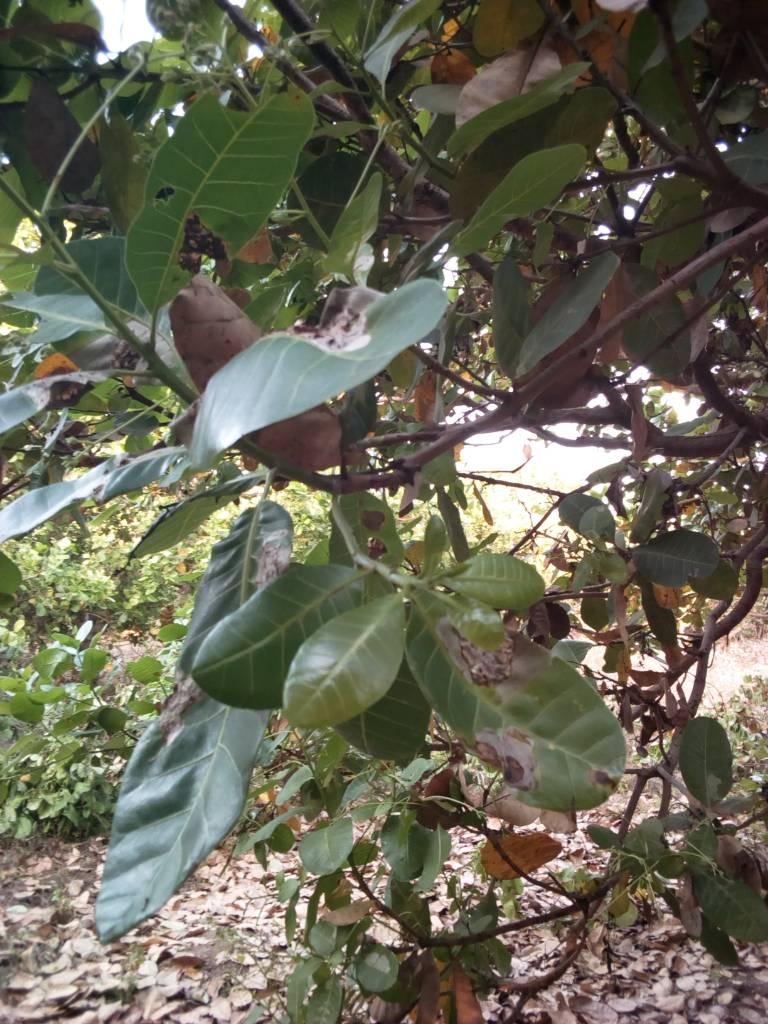Dysdercus wolkerii: (399, 583, 666, 828)
